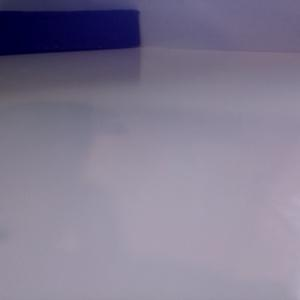zone: (1, 9, 141, 55)
